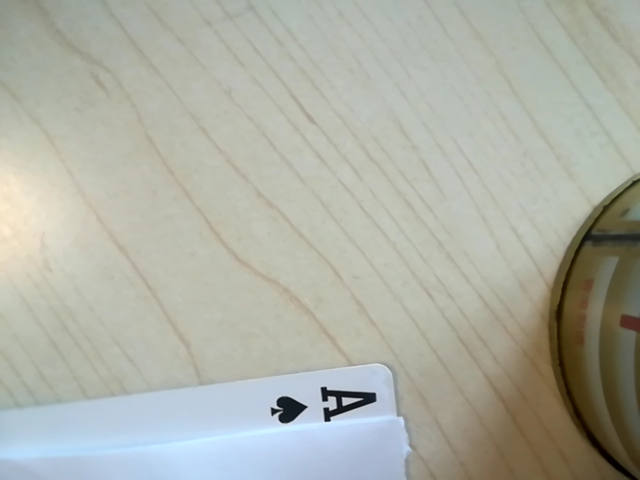ht a: (254, 374, 393, 437)
